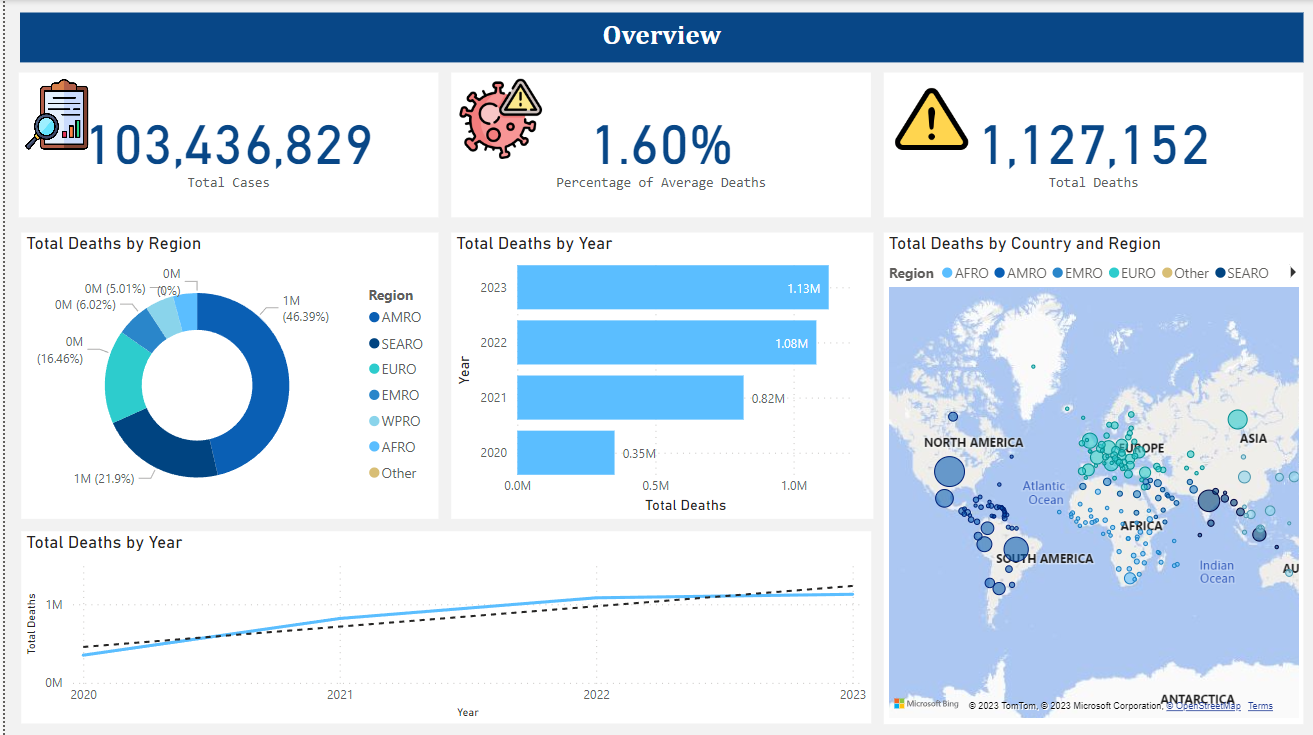

What the dashboard file says about the page in this screenshot:
{"tool":"powerbi","page":{"name":"Overview","canvas":[1280,720],"ordinal":0},"visuals":[{"type":"textbox","box":[14.7,12.2,1255.4,48.9],"z":0},{"type":"card","fields":{"Values":["Calculations.Sum of Death"]},"box":[859.4,70.9,410.7,141.8],"z":1000},{"type":"donutChart","fields":{"Y":["Calculations.Sum of deaths"],"Category":["DimWho_COVIDE_19_global_data.WHO_region"]},"box":[15.9,227.4,408.3,279.9],"z":2000},{"type":"lineChart","fields":{"Category":["DimWho_COVIDE_19_global_data.Year"],"Y":["Calculations.Total Deaths"]},"box":[15.9,519.5,831.2,188.3],"z":3000},{"type":"clusteredBarChart","fields":{"Category":["DimWho_COVIDE_19_global_data.Year"],"Y":["Calculations.Sum of deaths"]},"box":[436.4,227.4,413.2,279.9],"z":4000},{"type":"card","fields":{"Values":["Calculations.Average death"]},"box":[436.4,70.9,410.7,141.8],"z":5000},{"type":"card","fields":{"Values":["Calculations.Sum of cases"]},"box":[13.4,70.9,410.7,141.8],"z":6000},{"type":"map","fields":{"Size":["Calculations.Sum of Death"],"Series":["DimWho_COVIDE_19_global_data.Region"],"Category":["DimWho_COVIDE_19_global_data.Country"]},"box":[859.4,227.4,410.7,480.4],"z":7000}]}

Visuals, with their boxes in screenshot pixels (x1, y1, x2, y2), scaled from the page's 1280x720 canvas onto the 1313x735 screenshot:
textbox: select_region(15, 12, 1303, 62)
card - Calculations.Sum of Death: select_region(882, 72, 1303, 217)
donutChart - Calculations.Sum of deaths x DimWho_COVIDE_19_global_data.WHO_region: select_region(16, 232, 435, 518)
lineChart - DimWho_COVIDE_19_global_data.Year x Calculations.Total Deaths: select_region(16, 530, 869, 723)
clusteredBarChart - DimWho_COVIDE_19_global_data.Year x Calculations.Sum of deaths: select_region(448, 232, 872, 518)
card - Calculations.Average death: select_region(448, 72, 869, 217)
card - Calculations.Sum of cases: select_region(14, 72, 435, 217)
map - Calculations.Sum of Death x DimWho_COVIDE_19_global_data.Region: select_region(882, 232, 1303, 723)
